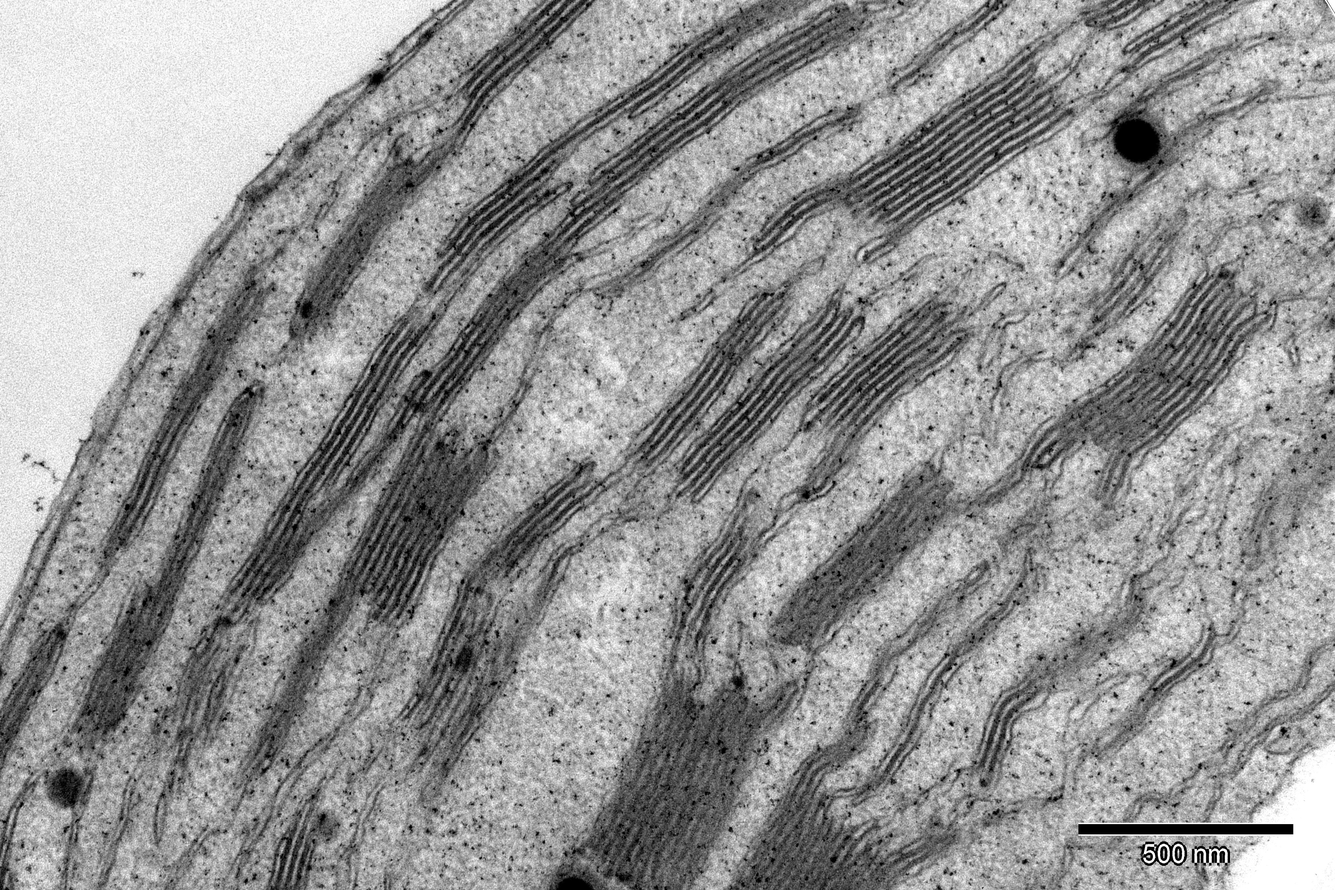granum: (232, 422, 505, 778), (561, 513, 811, 890), (57, 382, 266, 766), (552, 0, 873, 249), (744, 39, 1079, 257), (388, 457, 613, 777), (1002, 260, 1281, 518), (221, 305, 440, 608), (89, 271, 279, 573), (755, 450, 974, 663), (661, 287, 870, 506), (721, 728, 974, 890), (283, 128, 472, 340), (390, 226, 585, 427), (799, 285, 978, 501), (964, 585, 1158, 778), (619, 283, 797, 479), (612, 0, 821, 123), (415, 151, 578, 308), (447, 0, 601, 110), (150, 618, 258, 751), (1078, 213, 1190, 334), (1252, 372, 1335, 524), (0, 612, 74, 779), (1116, 0, 1261, 72), (263, 824, 324, 890), (1073, 0, 1169, 35), (836, 707, 885, 742)
